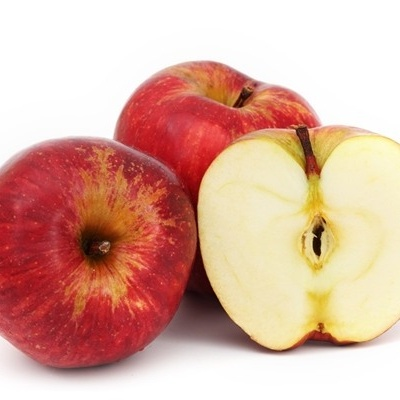apple: (1, 138, 195, 372), (194, 125, 400, 343), (111, 57, 320, 193)
